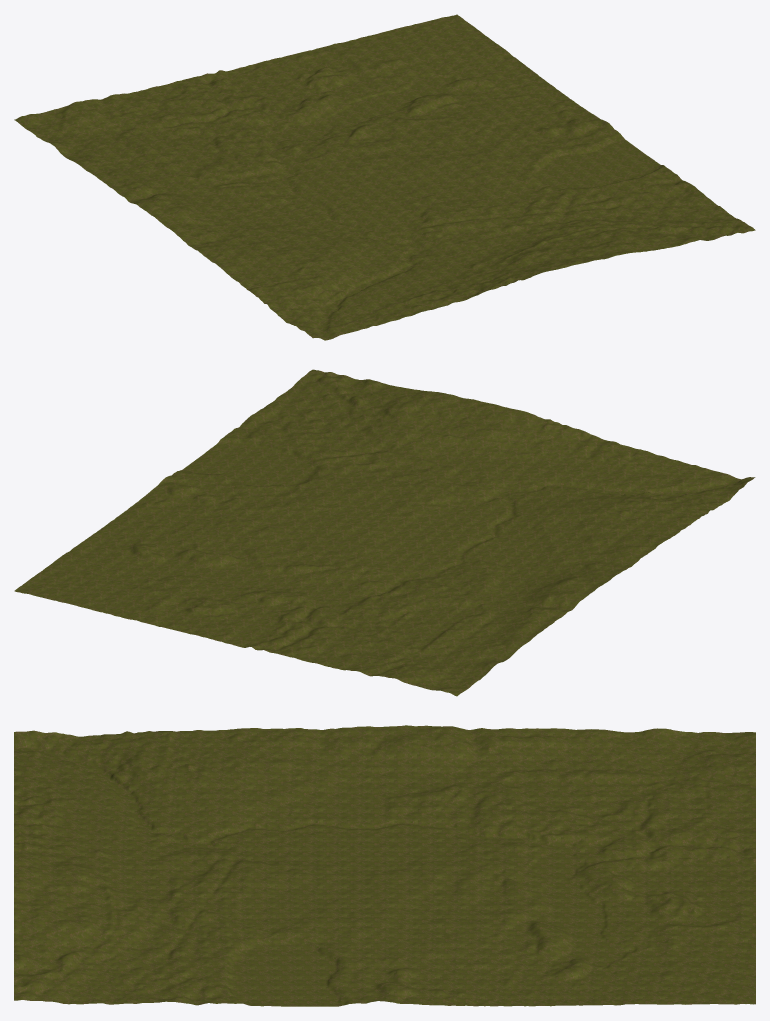
Rendered from tiled_map7.glb.
3 renders of one model, top to bottom at view 1: azimuth 30°, elevation 25°; view 2: azimuth 150°, elevation 25°; view 3: azimuth 270°, elevation 25°, orthographic. The views are drawn at different scales.
Parts seen in each view (by area): view 1: EXPORT_GOOGLE_SAT_WM.004; view 2: EXPORT_GOOGLE_SAT_WM.004; view 3: EXPORT_GOOGLE_SAT_WM.004.
Part boxes in pixels (box(x1,y1,x2,y2)): EXPORT_GOOGLE_SAT_WM.004: box(14, 14, 755, 340); EXPORT_GOOGLE_SAT_WM.004: box(14, 369, 755, 696); EXPORT_GOOGLE_SAT_WM.004: box(14, 725, 755, 1006).
Bounding box in the file's own units: 84.24 × 2.75 × 98.41.
1 material, 1 textured.
